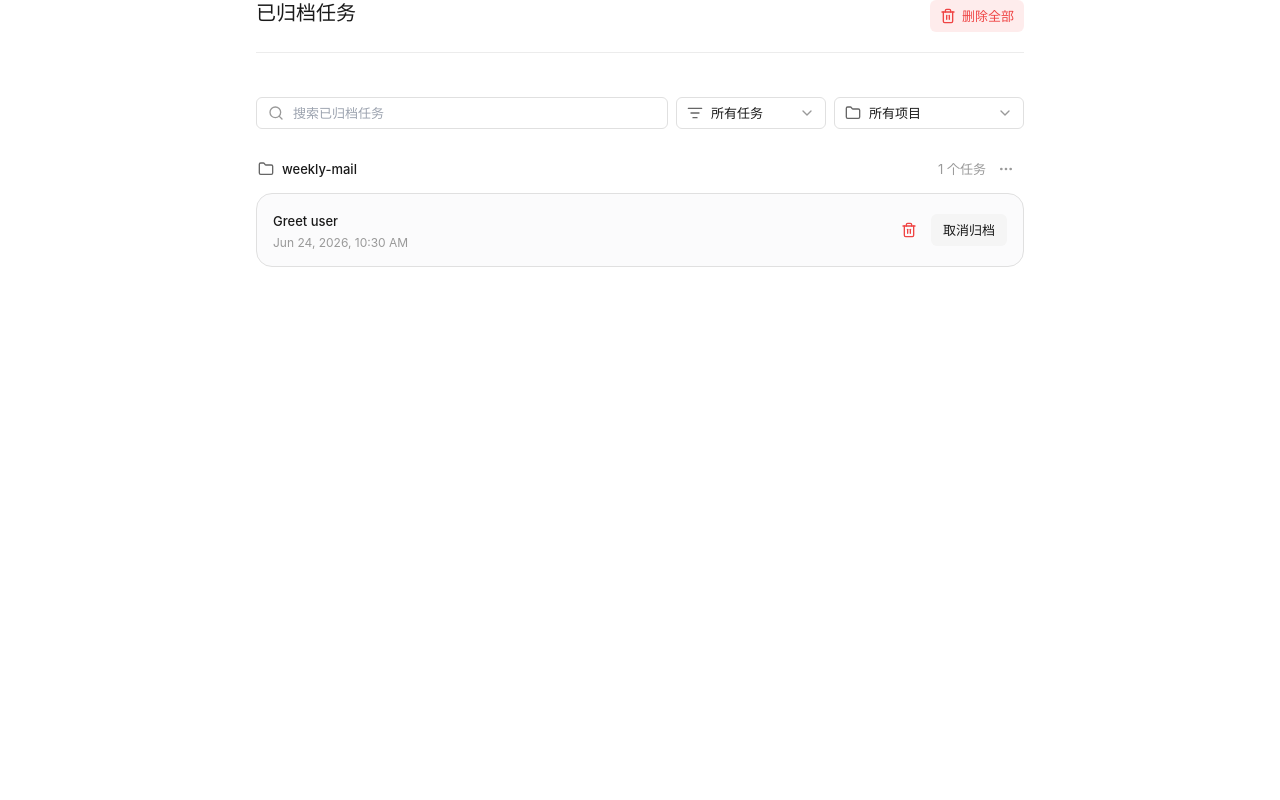
Test: ArchivedConversationsSettingsPage › does not report failed bulk deletions as completed
Expected: the button "Greet user" is shown, [273,212,338,230]
Click the button with test id "archived-bulk-delete-button" at [977, 16], box [930,0,1024,32]
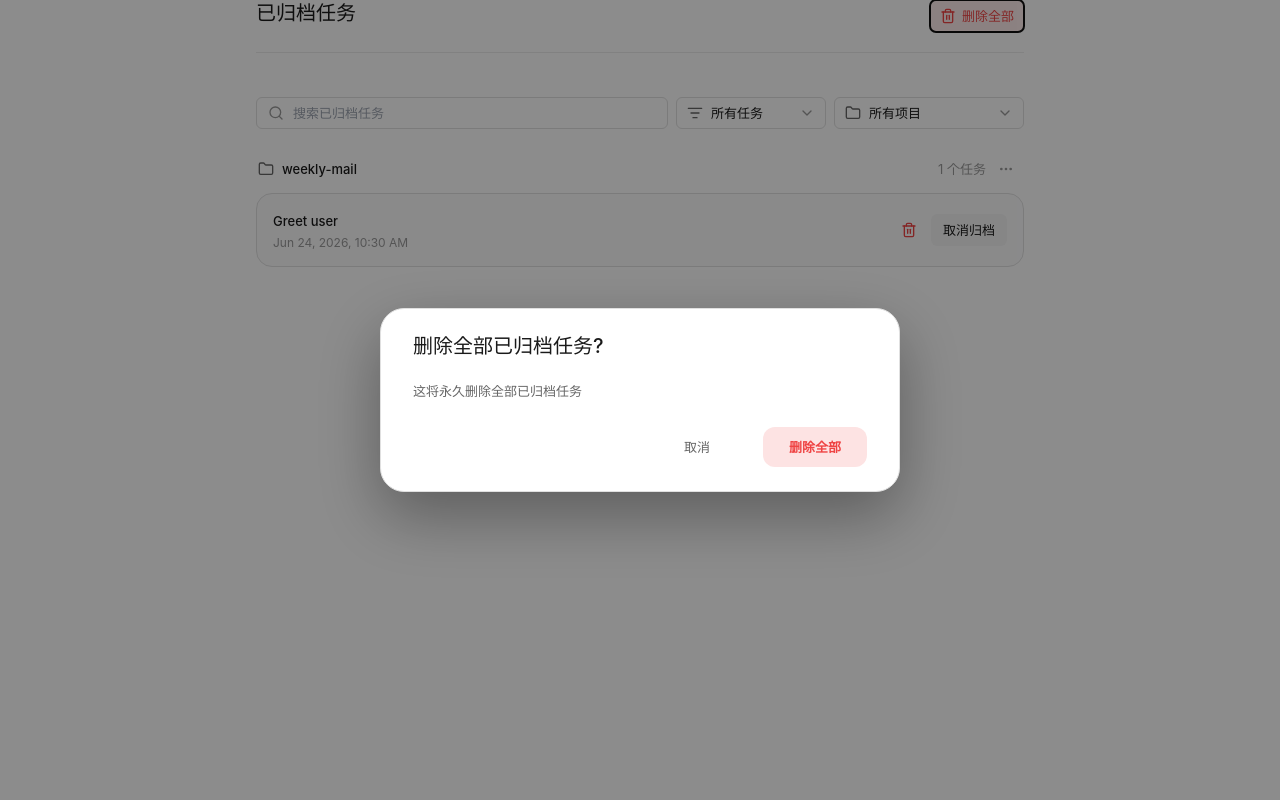
Click the button with test id "archived-bulk-delete-confirm-dialog-confirm-button" at [815, 447], box [763,427,867,467]
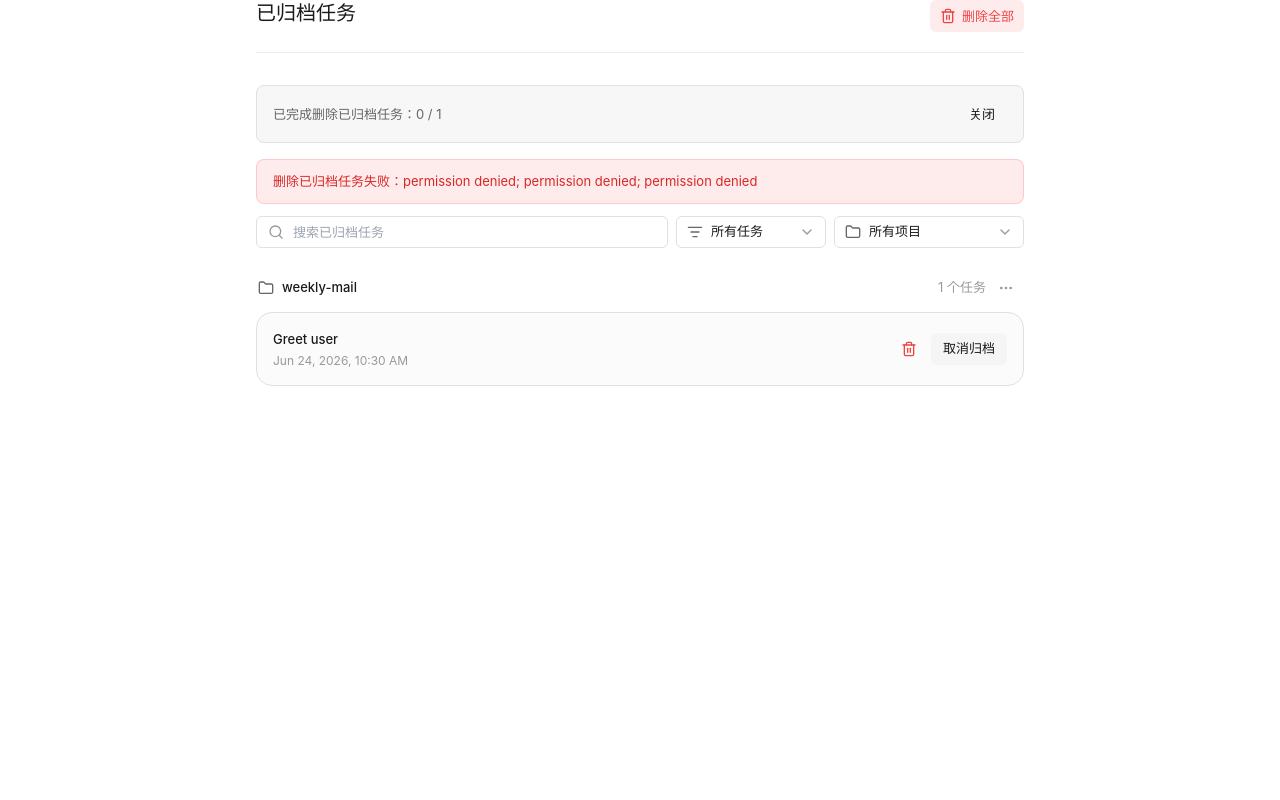
Expected: the button "Greet user" is shown, [273,330,338,349]
Result: the element with test id "archived-bulk-delete-background-progress" shows "0 / 1" at [273,106,442,122]
Result: the text with test id "archived-operation-error" shows "permission denied" at [273,173,757,189]
